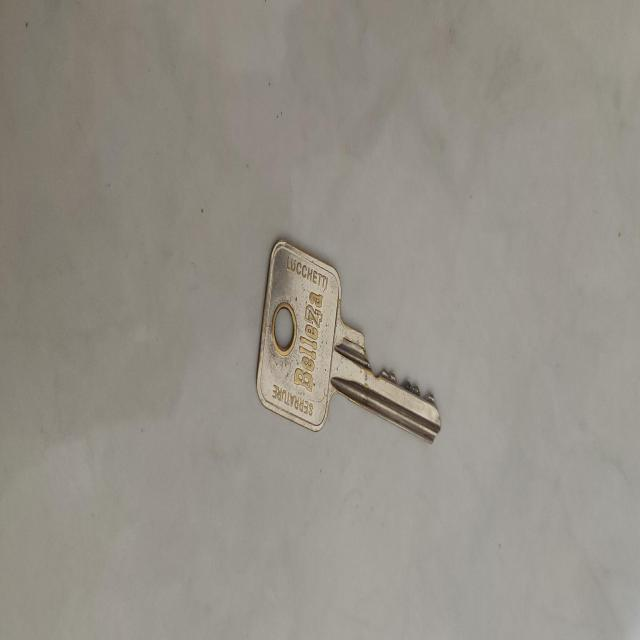kunci_kos: (250, 221, 446, 465)
